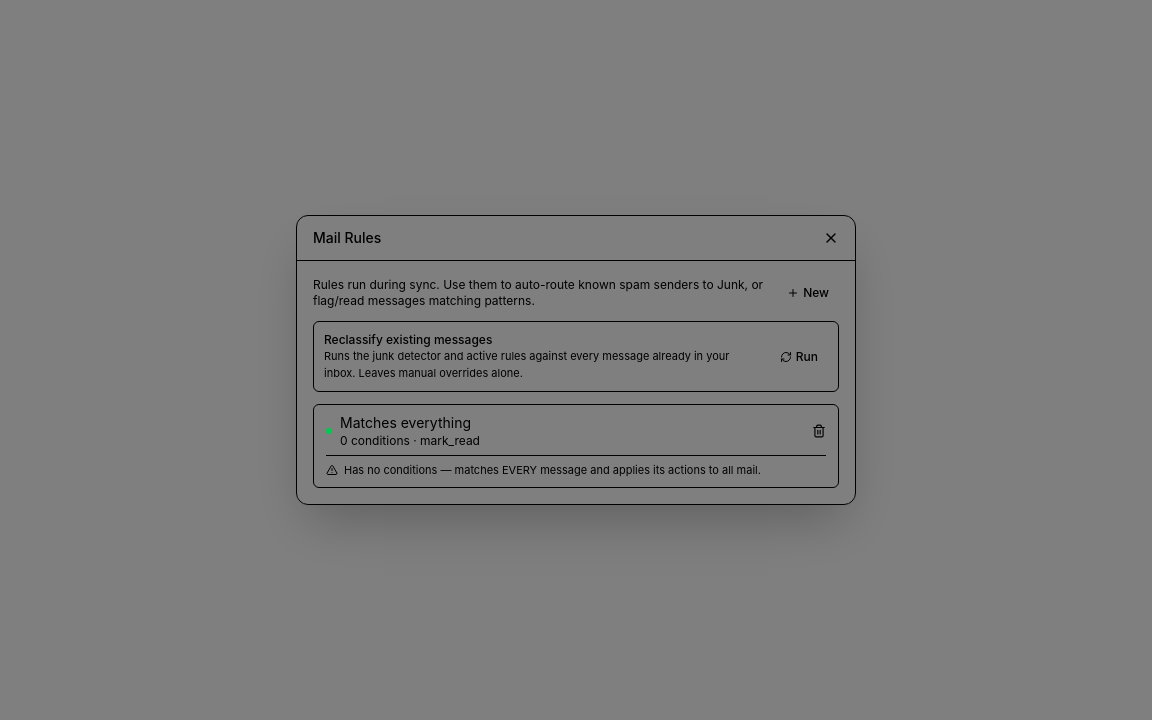
RulesManager guards › refuses to re-save a stored rule that has zero conditions
Click the text "Matches everything": point(406, 423) [340, 414, 471, 431]
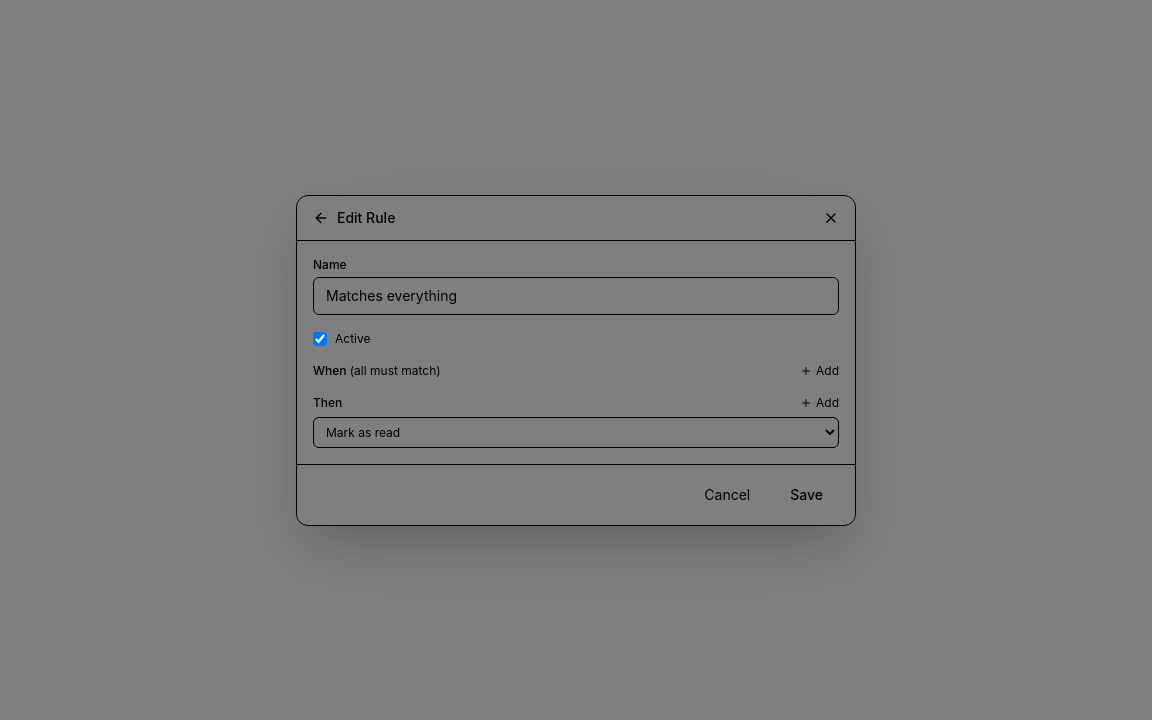
Expected: the heading "Edit Rule" is shown, [337, 208, 395, 228]
Click the button "Save": point(807, 494) [774, 476, 839, 512]
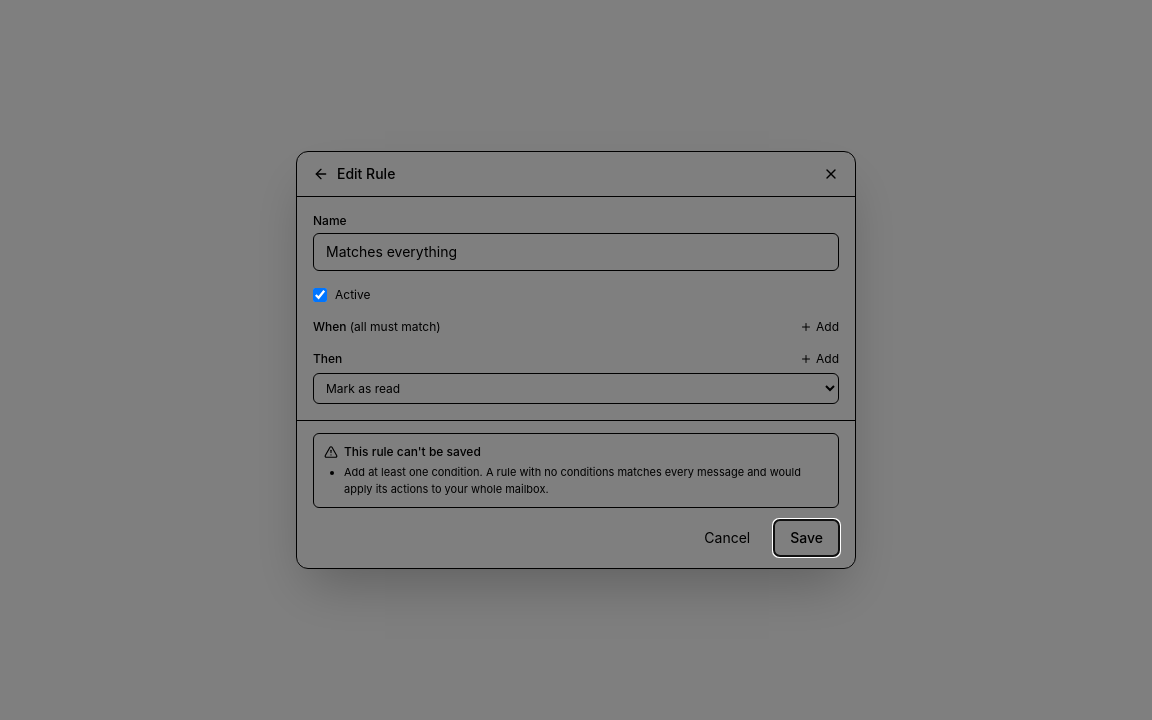
Expected: the message with test id "rule-errors" shows "at least one condition", [344, 465, 801, 496]
Expected: the message with test id "rule-errors" shows "whole mailbox", [344, 465, 801, 496]
